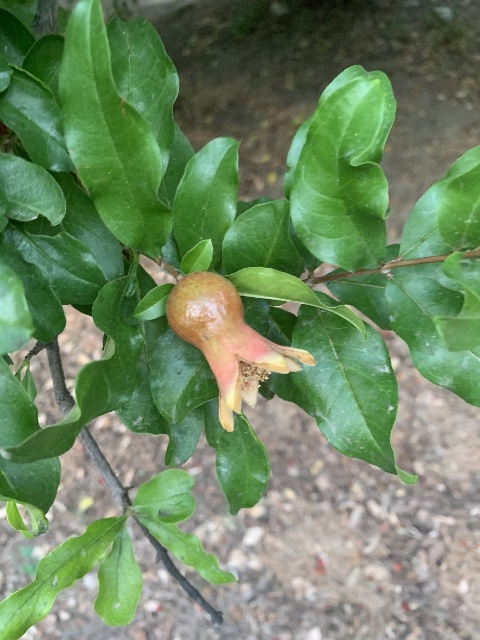early-fruit: (167, 272, 314, 433)
